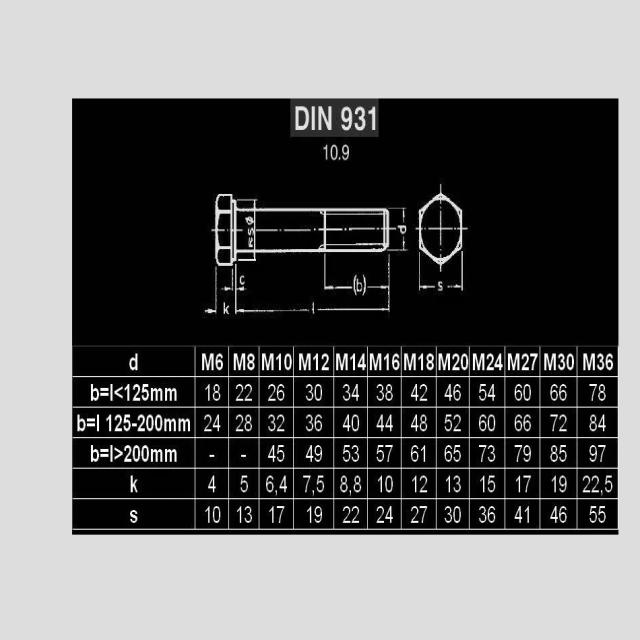marking_line: (235, 265, 392, 314), (323, 254, 392, 293), (418, 266, 463, 292), (389, 207, 407, 252), (204, 266, 218, 314), (237, 198, 257, 209)
numeric: (354, 105, 366, 133), (341, 105, 353, 131), (368, 105, 377, 131), (477, 444, 488, 465), (558, 413, 568, 434), (443, 382, 452, 404), (203, 414, 213, 433), (522, 475, 532, 494), (582, 475, 592, 494), (591, 475, 601, 494), (213, 412, 222, 433), (240, 474, 249, 495), (314, 382, 323, 403), (444, 412, 453, 433), (478, 413, 487, 434), (605, 351, 614, 372), (605, 473, 614, 494), (132, 383, 141, 403), (244, 384, 254, 402), (235, 412, 244, 432), (278, 475, 288, 493), (267, 384, 277, 402), (321, 353, 331, 371), (314, 413, 323, 433), (302, 475, 311, 495), (357, 353, 367, 371), (342, 382, 351, 402), (342, 413, 351, 433), (443, 445, 453, 463), (523, 443, 532, 463), (558, 506, 568, 524), (597, 414, 607, 432), (209, 472, 217, 494), (154, 413, 163, 432), (235, 383, 244, 402), (276, 505, 285, 524), (267, 444, 276, 463), (314, 505, 323, 524), (351, 413, 360, 432), (353, 474, 362, 493), (351, 505, 360, 524), (376, 505, 385, 524), (453, 444, 462, 463), (495, 352, 504, 371), (521, 353, 530, 372), (514, 413, 523, 432), (513, 443, 522, 462), (558, 475, 567, 494), (487, 445, 497, 462), (114, 414, 123, 432), (247, 352, 256, 370), (212, 505, 221, 523), (276, 444, 285, 462), (342, 444, 351, 462), (342, 506, 351, 524), (385, 414, 394, 432), (419, 414, 428, 432), (426, 353, 435, 371), (451, 353, 460, 371), (486, 352, 495, 370), (487, 414, 496, 432), (523, 384, 532, 402), (523, 413, 532, 431), (550, 384, 559, 402), (454, 413, 462, 433), (514, 382, 522, 402), (598, 504, 606, 524), (137, 414, 146, 431), (284, 353, 293, 370), (316, 475, 325, 492), (146, 413, 154, 432), (215, 352, 223, 371), (277, 413, 285, 432), (277, 383, 285, 402), (306, 444, 314, 463), (315, 444, 323, 463), (352, 383, 360, 402), (385, 505, 393, 524), (420, 474, 428, 493), (530, 352, 538, 371), (559, 383, 567, 402), (559, 443, 567, 462), (598, 383, 606, 402), (598, 444, 606, 463), (589, 444, 597, 463), (124, 444, 132, 462), (133, 445, 141, 463), (142, 444, 150, 462), (305, 385, 313, 403), (341, 476, 349, 494), (385, 384, 393, 402), (376, 382, 384, 400), (377, 414, 385, 432), (385, 475, 393, 493), (419, 505, 427, 523), (461, 353, 469, 371), (453, 383, 461, 401), (488, 474, 496, 492), (478, 505, 486, 523), (557, 353, 565, 371), (567, 353, 575, 371), (590, 414, 598, 432), (418, 352, 425, 372), (445, 504, 452, 524), (330, 143, 338, 160), (123, 414, 131, 431), (141, 383, 149, 400), (213, 384, 221, 401), (244, 506, 252, 523), (267, 414, 275, 431), (306, 415, 314, 432), (352, 445, 360, 462), (420, 384, 428, 401), (411, 384, 419, 401), (488, 506, 496, 523), (597, 354, 605, 371), (589, 506, 597, 523), (342, 145, 351, 160), (267, 474, 274, 493), (268, 506, 275, 525), (377, 444, 384, 463), (515, 505, 522, 524), (479, 384, 487, 400), (488, 384, 496, 400), (123, 384, 130, 402), (245, 414, 252, 432), (276, 353, 283, 371), (350, 352, 357, 370), (385, 445, 392, 463), (411, 505, 418, 523), (445, 475, 451, 496), (551, 505, 558, 523), (550, 415, 557, 433), (550, 444, 557, 462), (313, 352, 319, 372), (393, 354, 400, 371), (411, 445, 418, 462), (411, 414, 418, 431), (453, 475, 460, 492), (590, 384, 597, 401), (205, 383, 211, 402), (384, 352, 390, 371), (412, 476, 418, 495), (480, 475, 486, 494), (454, 506, 460, 524), (551, 475, 557, 493), (237, 506, 243, 523), (106, 413, 111, 433), (307, 505, 312, 525), (323, 142, 328, 161), (206, 506, 211, 525), (526, 505, 531, 524), (378, 475, 383, 493), (516, 476, 521, 494), (421, 445, 426, 462)
special_symbol: (115, 385, 124, 400), (114, 447, 123, 459), (100, 448, 109, 459), (100, 387, 109, 397), (243, 216, 254, 224), (87, 418, 95, 427)
